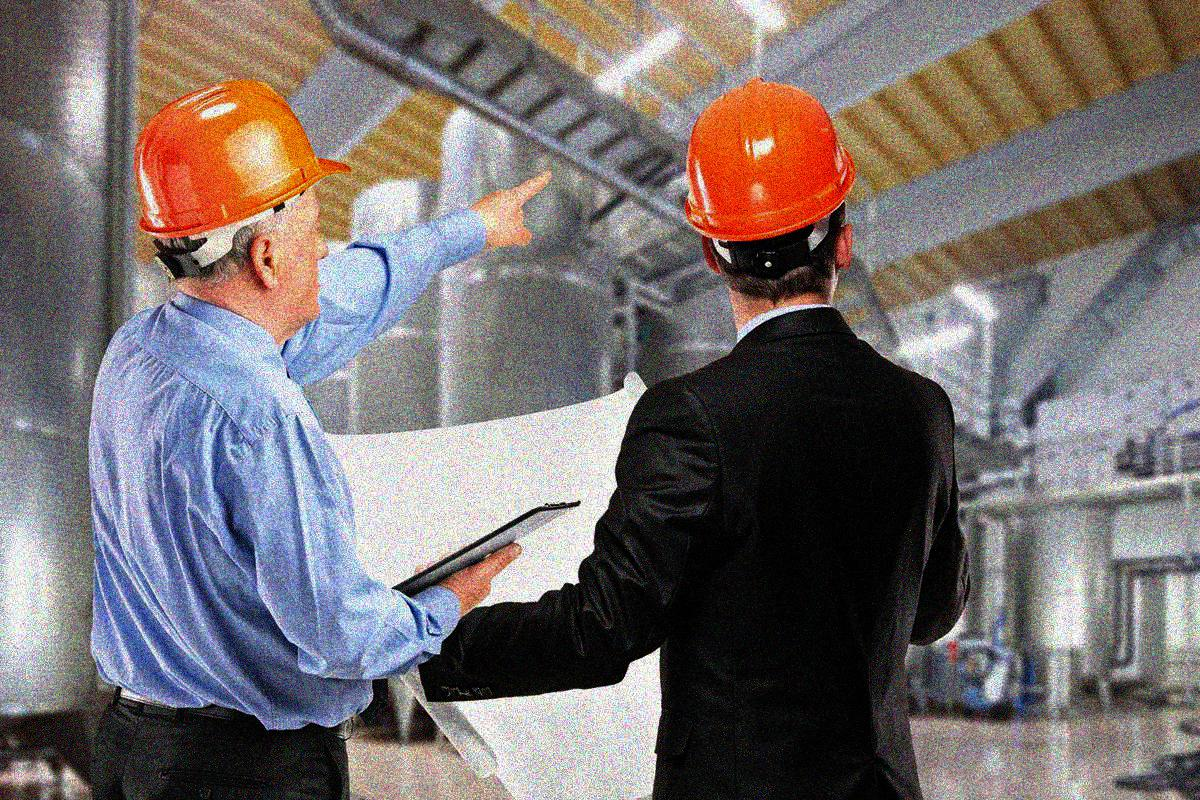helmet: (131, 77, 351, 328), (682, 78, 860, 312)
